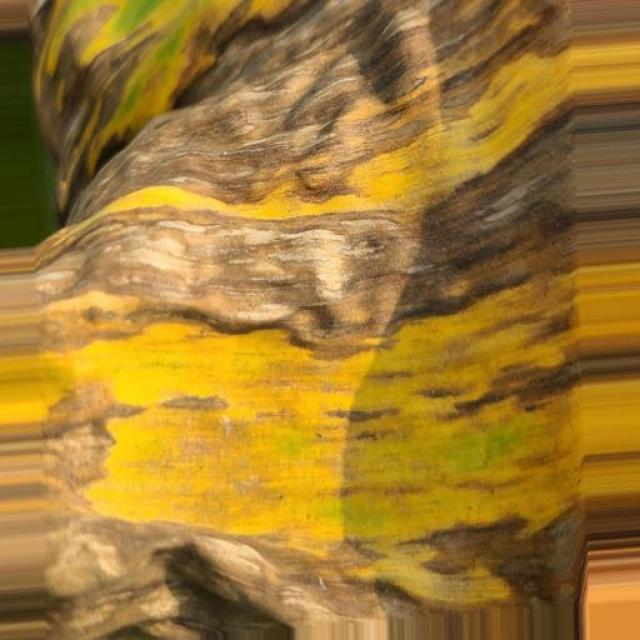Early_rust: (0, 0, 592, 631)
